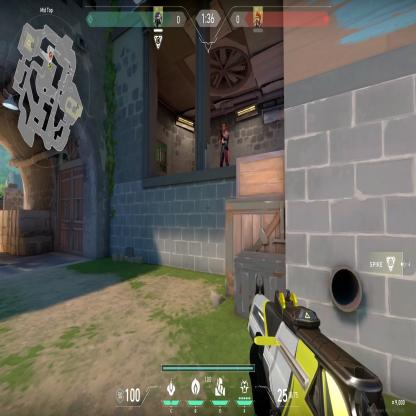enemy: (217, 121, 231, 168)
